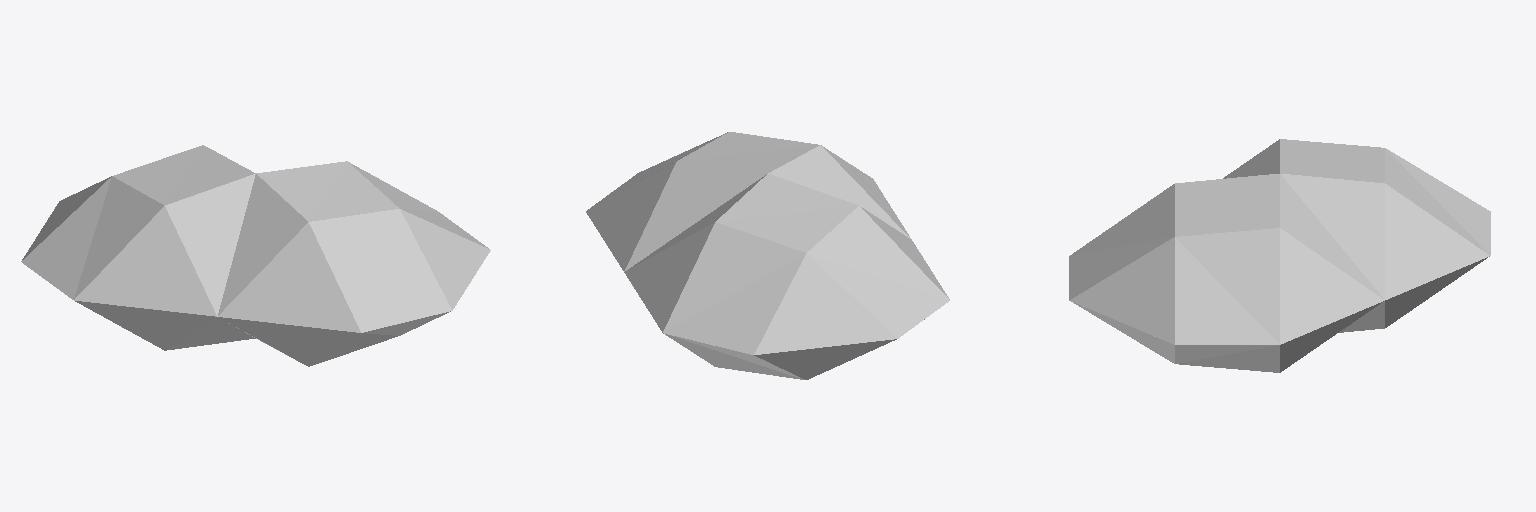
File: ruby.obj
The picture shows the model from 3 angles: view 1: azimuth 30°, elevation 25°; view 2: azimuth 150°, elevation 25°; view 3: azimuth 270°, elevation 25°; orthographic projection.
Parts seen in each view (by area): view 1: Plane; view 2: Plane; view 3: Plane.
Part boxes in pixels (bbox=[...]): Plane: bbox=[21, 145, 490, 366]; Plane: bbox=[586, 132, 949, 379]; Plane: bbox=[1069, 139, 1490, 372].
Bounding box in the file's own units: 6 × 2.59 × 6.